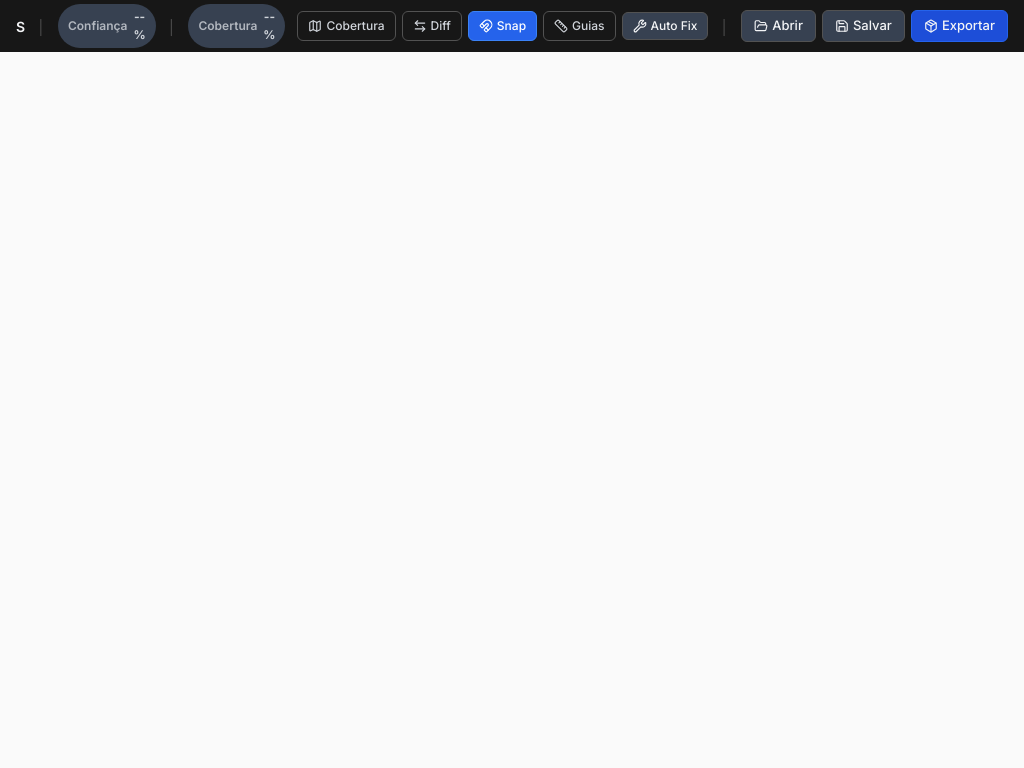
TopToolbar › Exportar button opens modal when datasets exist
This screenshot has width=1024, height=768.
Click the button with aria-label "Exportar" at (959, 26), box [911,10,1008,42]
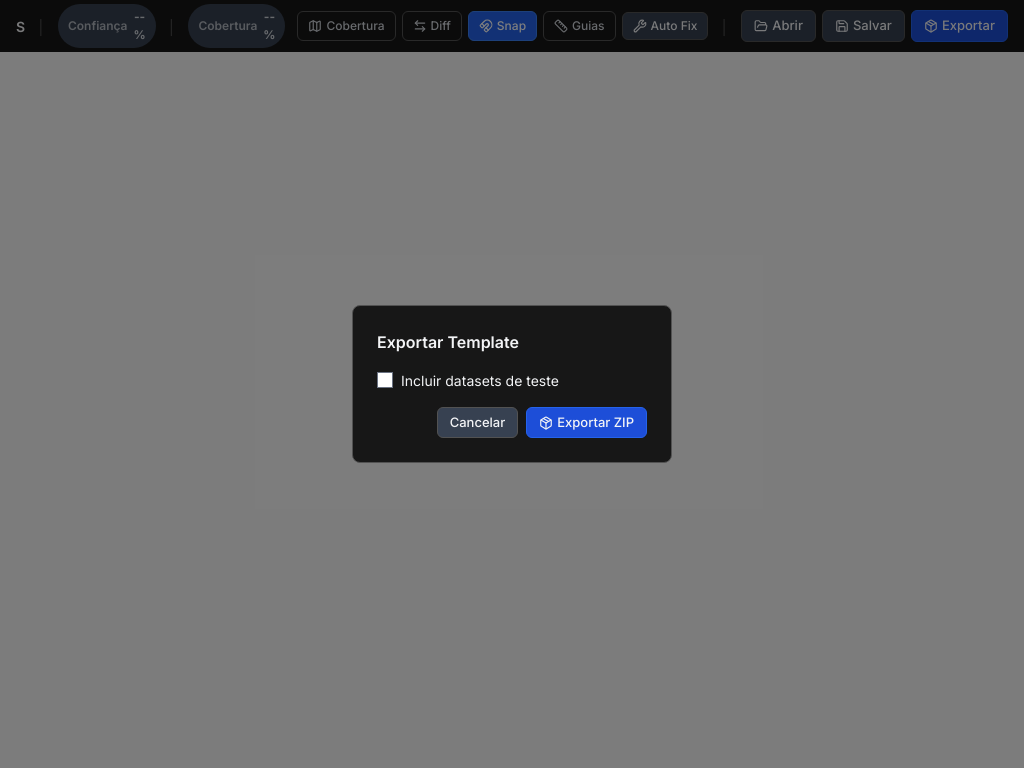
expect the text "Incluir datasets de teste" is shown: met, box [377,372,559,389]
